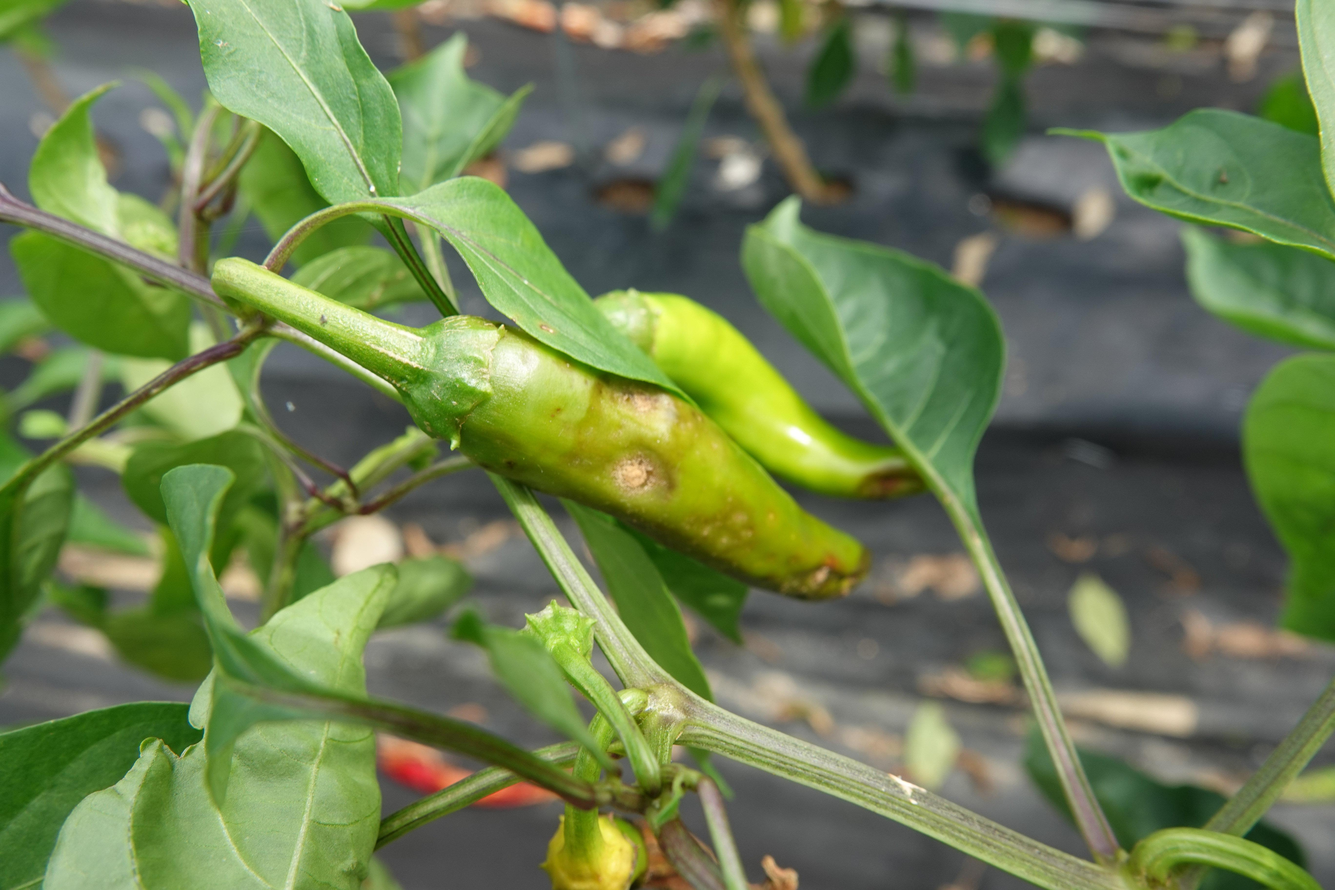Busuk Buah Antraknosa: (397, 313, 869, 606)
